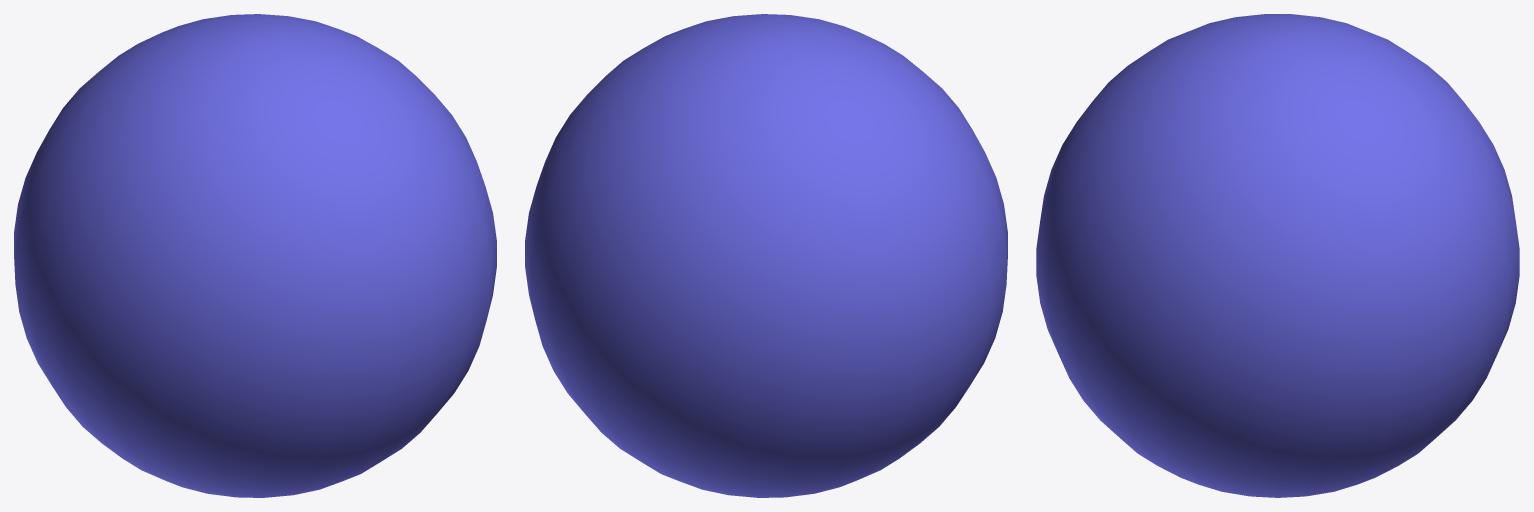
File: Ball.fbx
The picture shows the model from 3 angles, left to right: view 1: azimuth 30°, elevation 25°; view 2: azimuth 150°, elevation 25°; view 3: azimuth 270°, elevation 25°; orthographic projection.
Parts seen in each view (by area): view 1: Ball; view 2: Ball; view 3: Ball.
Part boxes in pixels (x1=…): Ball: x1=14, y1=14, x2=496, y2=497; Ball: x1=525, y1=14, x2=1007, y2=497; Ball: x1=1036, y1=14, x2=1519, y2=497.
Bounding box in the file's own units: 69.59 × 70 × 69.72.
